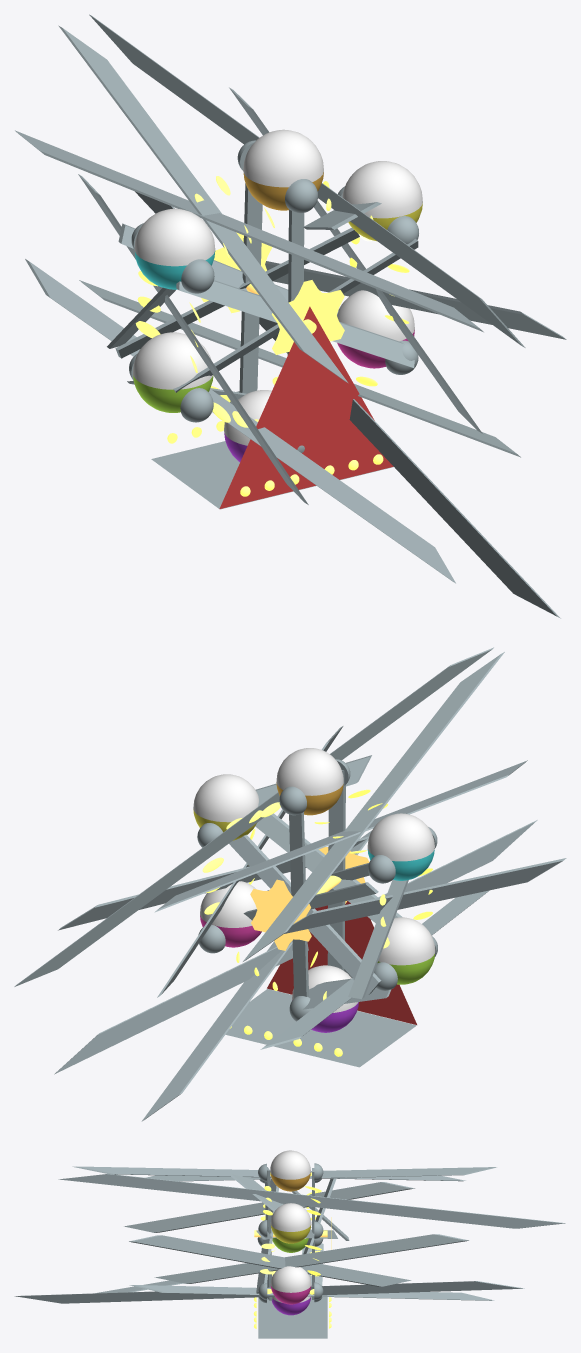
File: ywheel.glb
3 views of the same model, one above another, from view 1: azimuth 30°, elevation 25°; view 2: azimuth 150°, elevation 25°; view 3: azimuth 270°, elevation 25° (orthographic). The views are drawn at different scales.
Visible parts, largest first — view 1: Plane.001, Cube.010, Cube.005, Cube.009, Cube.004, Cube.006, Cylinder, Sphere.073, Sphere.072, Sphere.074, Sphere.076, Cube.014 (+15 smaller); view 2: Cube.006, Cube.004, Plane, Cube.009, Cube.003, Cylinder, Sphere.073, Cube.014, Plane.001, Sphere.072, Cube.010, Sphere.076 (+15 smaller); view 3: Cube.009, Cube.006, Cube.013, Cube.007, Cube.003, Plane, Cube.014, Cube.010, Cube.004, Sphere.076, Sphere.072, Sphere.075 (+8 smaller).
Boxes of the visible parts, x1,y1,x2,y2 form: Plane.001: (219, 306, 393, 508); Cube.010: (58, 25, 348, 383); Cube.005: (25, 259, 455, 583); Cube.009: (89, 14, 525, 347); Cube.004: (15, 130, 483, 332); Cube.006: (135, 191, 560, 618); Cylinder: (129, 140, 418, 452); Sphere.073: (134, 208, 215, 289); Sphere.072: (243, 129, 323, 210); Sphere.074: (133, 332, 213, 412); Sphere.076: (342, 161, 422, 241); Cube.014: (79, 280, 520, 457); Cube.006: (54, 820, 537, 1074); Cube.004: (243, 652, 504, 961); Plane: (225, 989, 416, 1067); Cube.009: (14, 647, 493, 986); Cube.003: (284, 858, 566, 933); Cylinder: (197, 759, 437, 1021); Sphere.073: (367, 813, 434, 880); Cube.014: (141, 830, 371, 1121); Plane.001: (267, 901, 416, 1024); Sphere.072: (276, 748, 343, 815); Cube.010: (154, 760, 527, 912); Sphere.076: (193, 774, 258, 840); Cube.009: (58, 1174, 565, 1228); Cube.006: (14, 1281, 524, 1303); Cube.013: (154, 1234, 469, 1283); Cube.007: (129, 1235, 411, 1286); Cube.003: (124, 1182, 414, 1232); Plane: (258, 1296, 327, 1338); Cube.014: (129, 1285, 494, 1300); Cube.010: (146, 1167, 496, 1181); Cube.004: (72, 1166, 465, 1181); Sphere.076: (270, 1203, 311, 1243); Sphere.072: (270, 1151, 310, 1191); Sphere.075: (270, 1266, 311, 1304).
Size of the model in its own units: 1.93 by 2.17 by 6.57.
